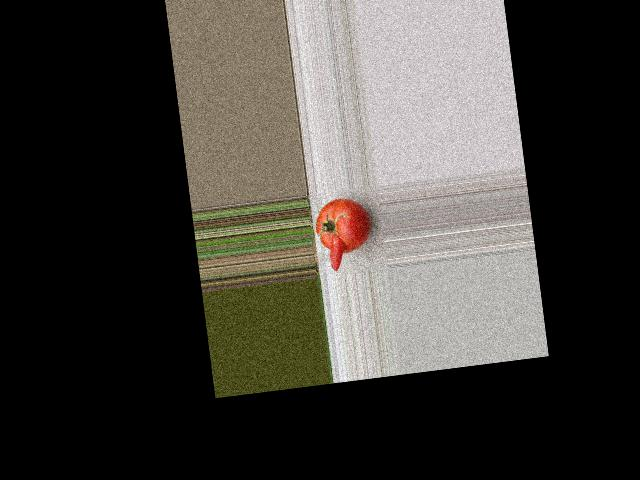tomato: (312, 194, 372, 256)
